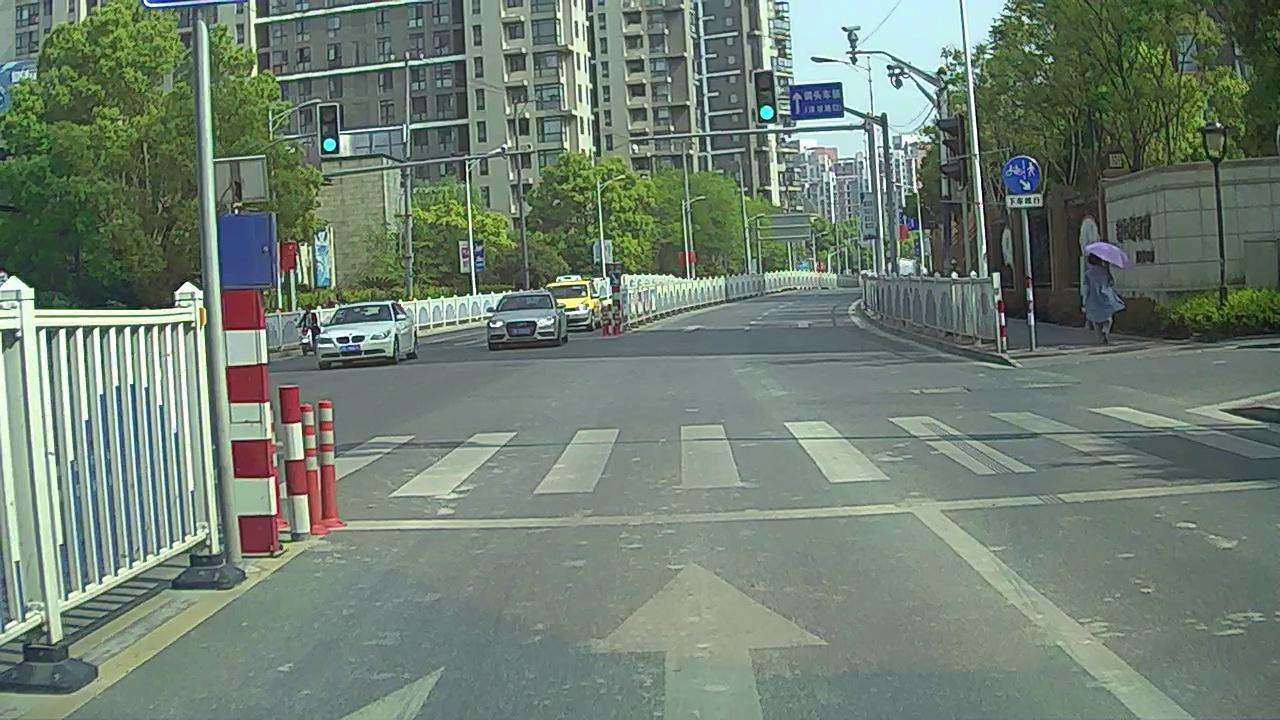traffic_light: (755, 72, 775, 125), (319, 104, 339, 154)
